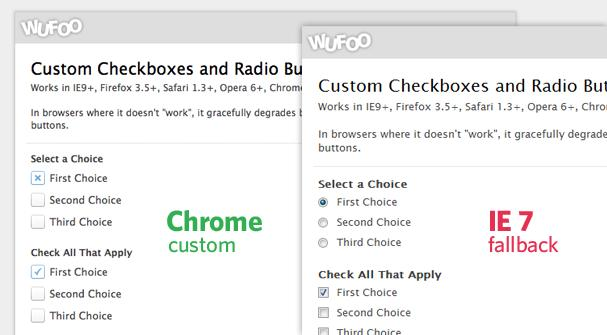checkbox: (27, 166, 47, 190), (26, 306, 48, 325), (26, 213, 47, 231), (29, 262, 47, 283), (28, 285, 48, 303), (27, 192, 48, 209)
